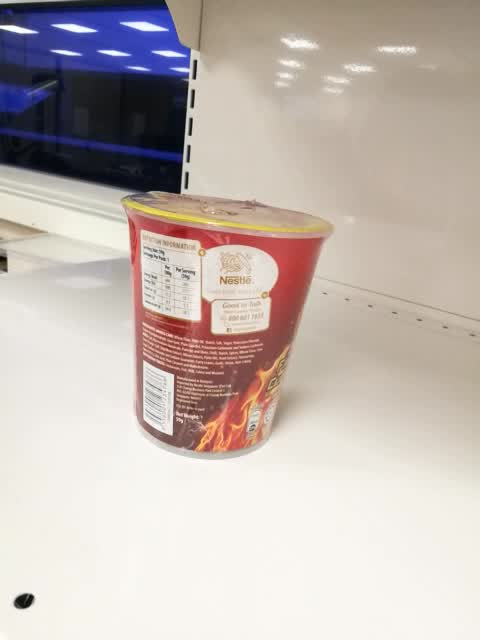maggi: (120, 190, 336, 460)
